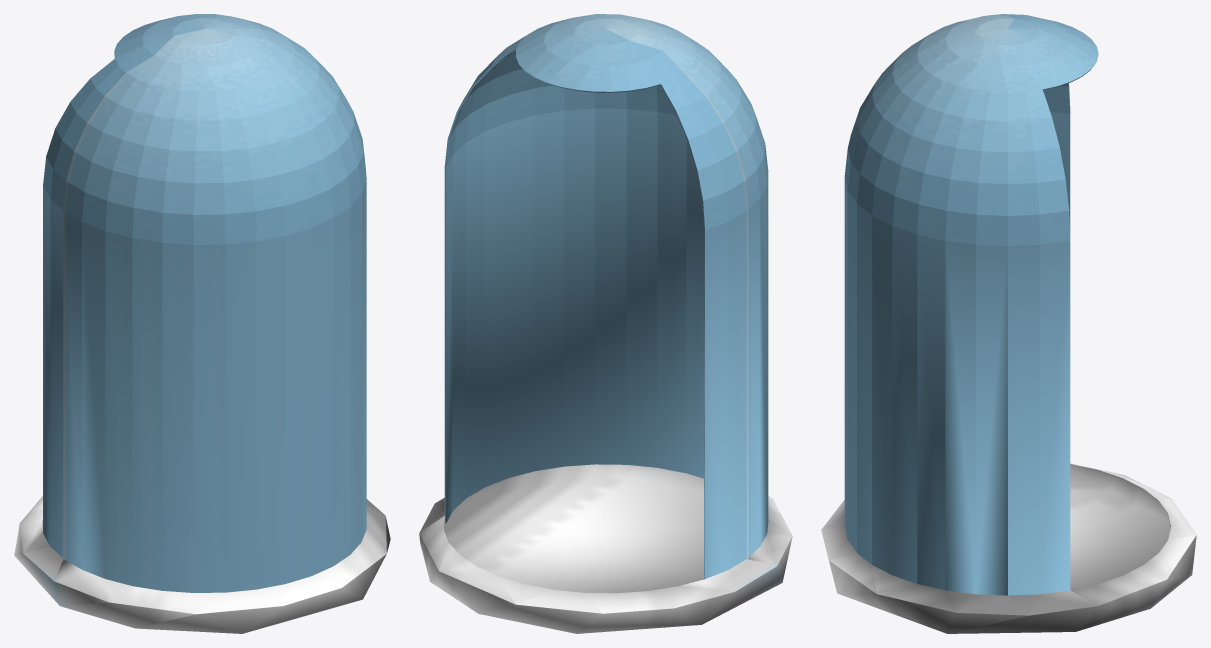
3 renders of one model, left to right at view 1: azimuth 30°, elevation 25°; view 2: azimuth 150°, elevation 25°; view 3: azimuth 270°, elevation 25°, orthographic.
Parts seen in each view (by area): view 1: Container.001; view 2: Container.001; view 3: Container.001.
Boxes of the visible parts, x1,y1,x2,y2 form: Container.001: (14, 14, 390, 633); Container.001: (419, 14, 792, 633); Container.001: (821, 14, 1196, 633).
Bounding box in the file's own units: 2.28 × 3.57 × 2.3.
